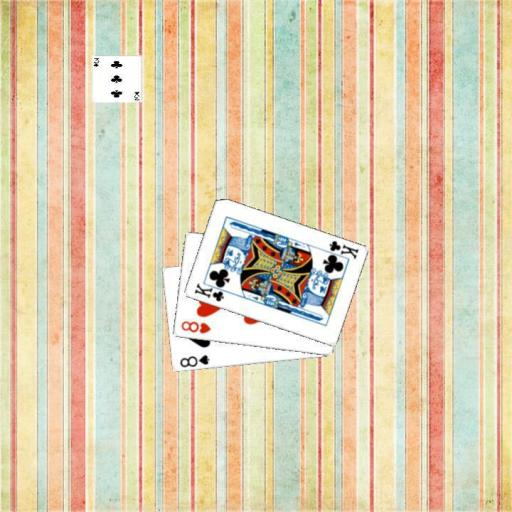card-corner: (320, 238, 360, 262), (192, 279, 230, 303), (176, 352, 212, 369), (178, 318, 212, 335)
